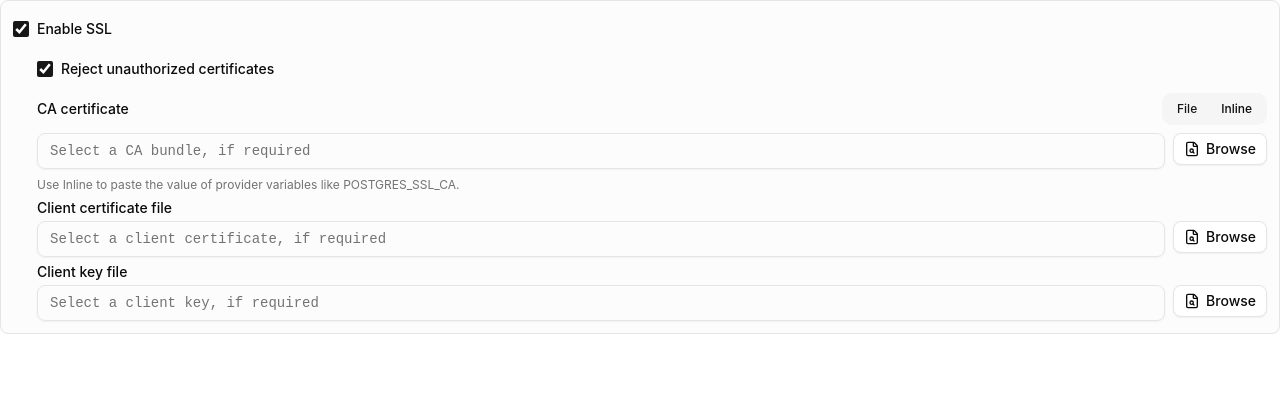
Test: connection file fields › preserves CA drafts when switching between file and inline sources
Click the 1st button "Browse" at (1220, 149), box [1173,133,1267,165]
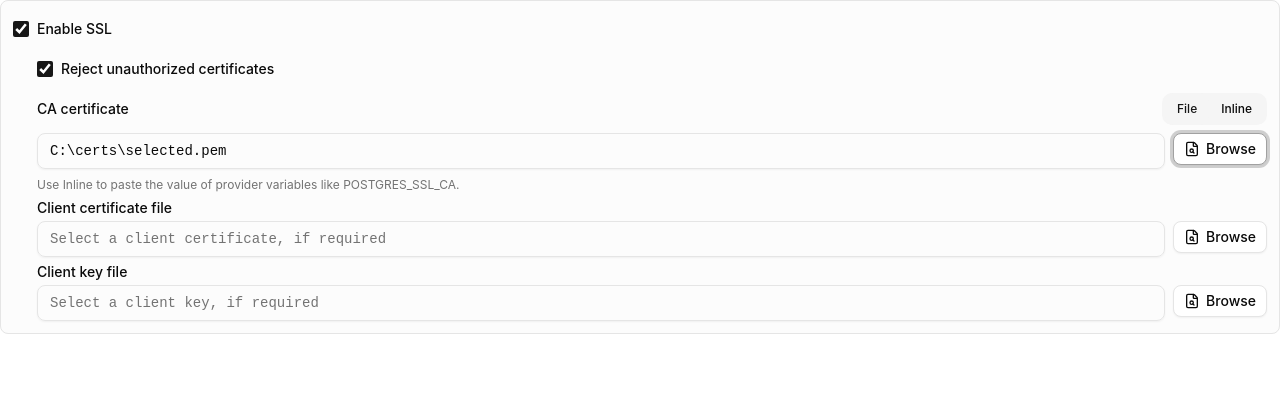
Result: the field labelled "CA certificate" holds "C:\\certs\\selected.pem" at [37,133,1165,169]
Click the button "Inline" at (1237, 109), box [1209,93,1264,125]
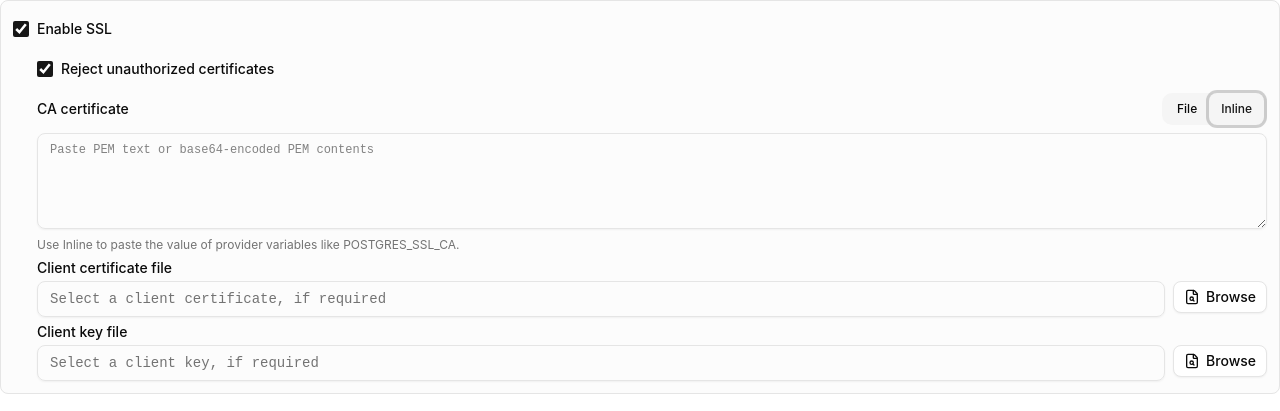
Type "INLINE_CA" into the text box labelled "CA certificate" at (652, 181), box [37,133,1267,229]
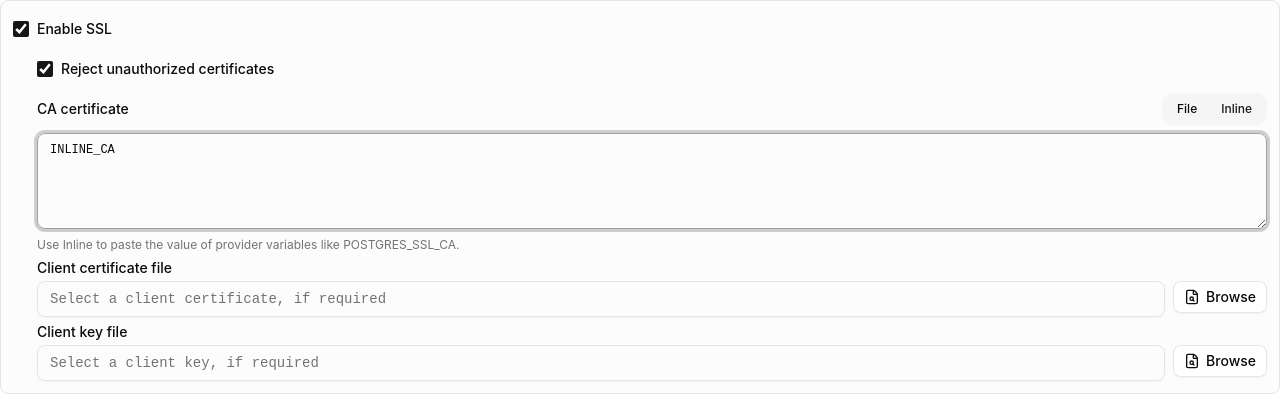
Click the button "File" at (1187, 109), box [1165,93,1209,125]
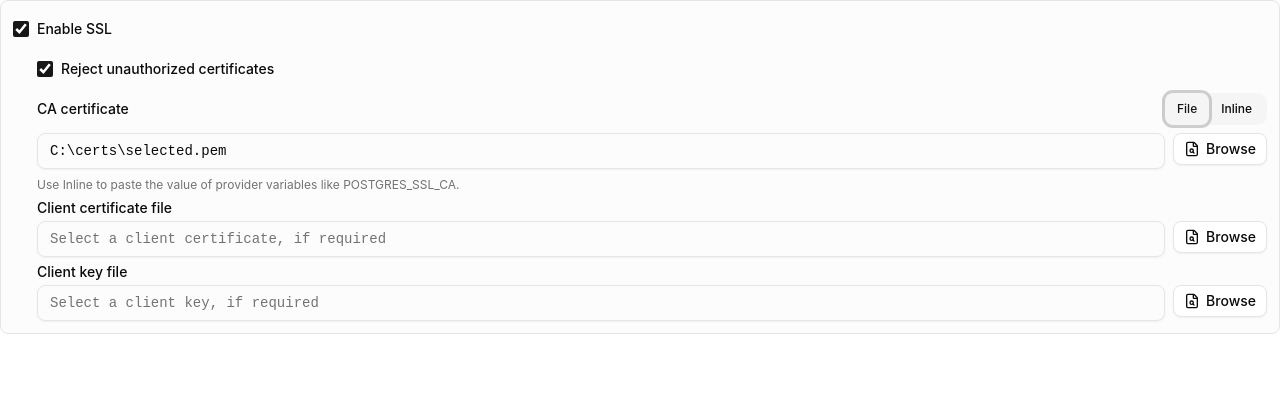
Result: the field labelled "CA certificate" holds "C:\\certs\\selected.pem" at [37,133,1165,169]
Click the button "Inline" at (1237, 109), box [1209,93,1264,125]
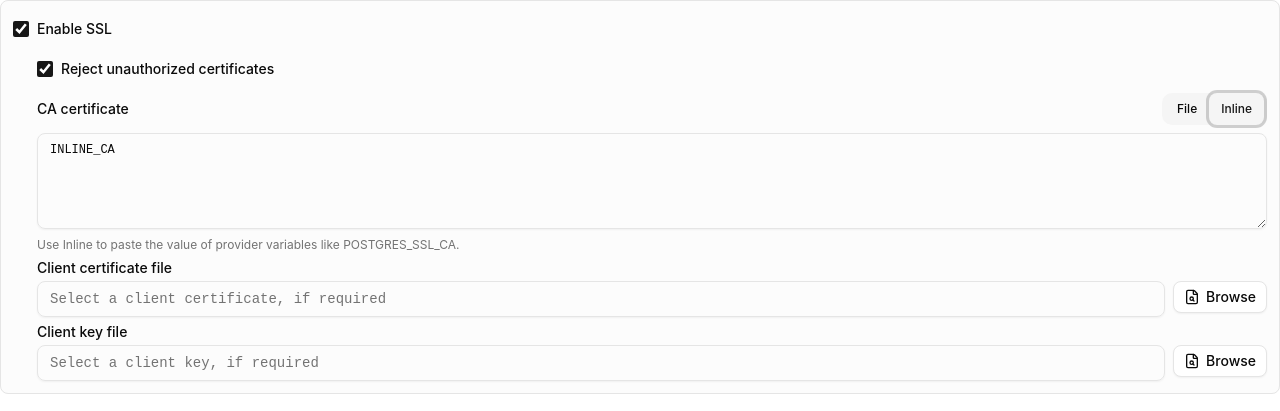
Result: the text box labelled "CA certificate" holds "INLINE_CA" at [37,133,1267,229]
